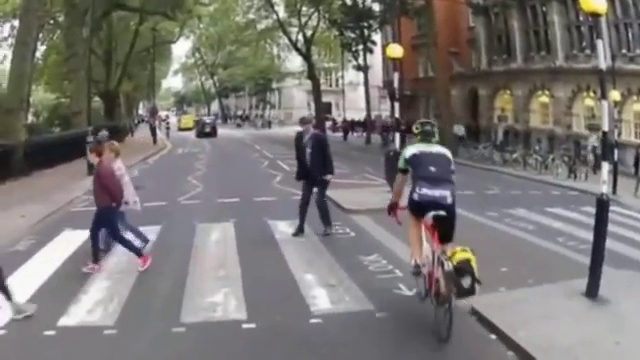cyclist_back: (391, 121, 481, 343)
